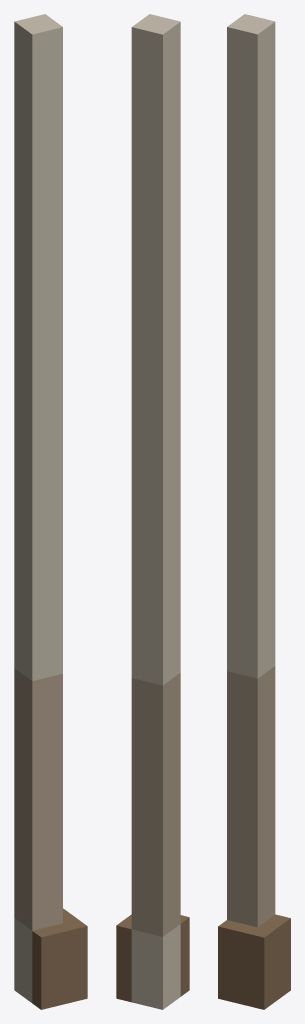
The model's file is Mesh_WallBaseboard2Colors_A6.fbx.
3 renders of one model, left to right at view 1: azimuth 30°, elevation 25°; view 2: azimuth 150°, elevation 25°; view 3: azimuth 330°, elevation 25°, orthographic.
Visible parts, largest first — view 1: Mesh_WallBaseboard2Colors_A6; view 2: Mesh_WallBaseboard2Colors_A6; view 3: Mesh_WallBaseboard2Colors_A6.
Part boxes in pixels (left/top/right/bottom): Mesh_WallBaseboard2Colors_A6: left=14, top=14, right=87, bottom=1009; Mesh_WallBaseboard2Colors_A6: left=116, top=14, right=189, bottom=1009; Mesh_WallBaseboard2Colors_A6: left=218, top=14, right=290, bottom=1009.
Bounding box in the file's own units: 0.15 × 3 × 0.15.
